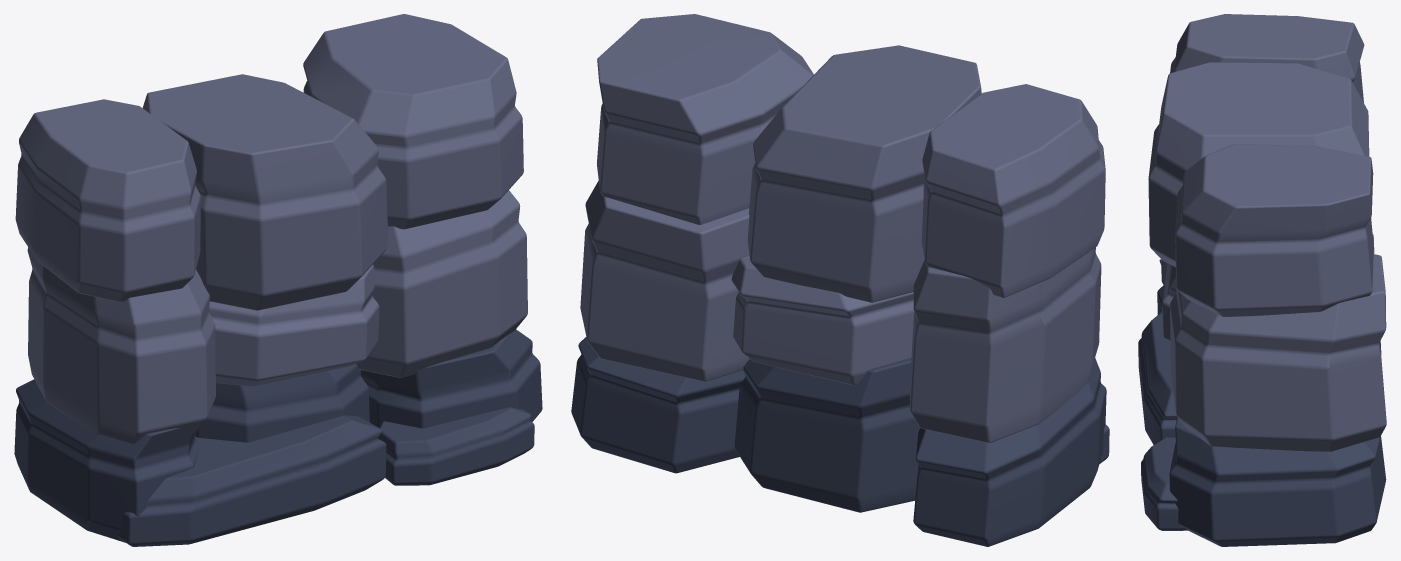
Rendered from SM_CC_RockWall_B.fbx.
The picture shows the model from 3 angles, left to right: view 1: azimuth 30°, elevation 25°; view 2: azimuth 150°, elevation 25°; view 3: azimuth 270°, elevation 25°; orthographic projection. The views are drawn at different scales.
Visible parts, largest first — view 1: SM_CC_RockWall_B; view 2: SM_CC_RockWall_B; view 3: SM_CC_RockWall_B.
Boxes of the visible parts, left/top/right/bottom form: SM_CC_RockWall_B: left=14, top=14, right=542, bottom=546; SM_CC_RockWall_B: left=571, top=14, right=1109, bottom=546; SM_CC_RockWall_B: left=1138, top=14, right=1386, bottom=546.
Bounding box in the file's own units: 4 × 2 × 3.
